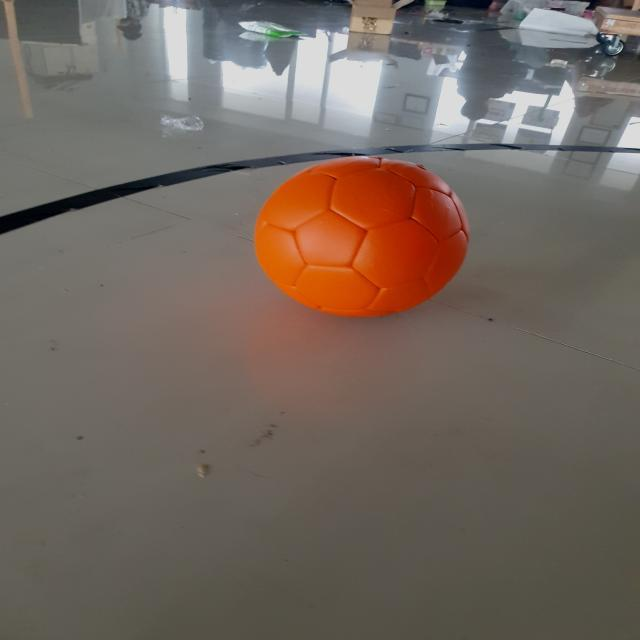bola: (241, 154, 472, 322)
